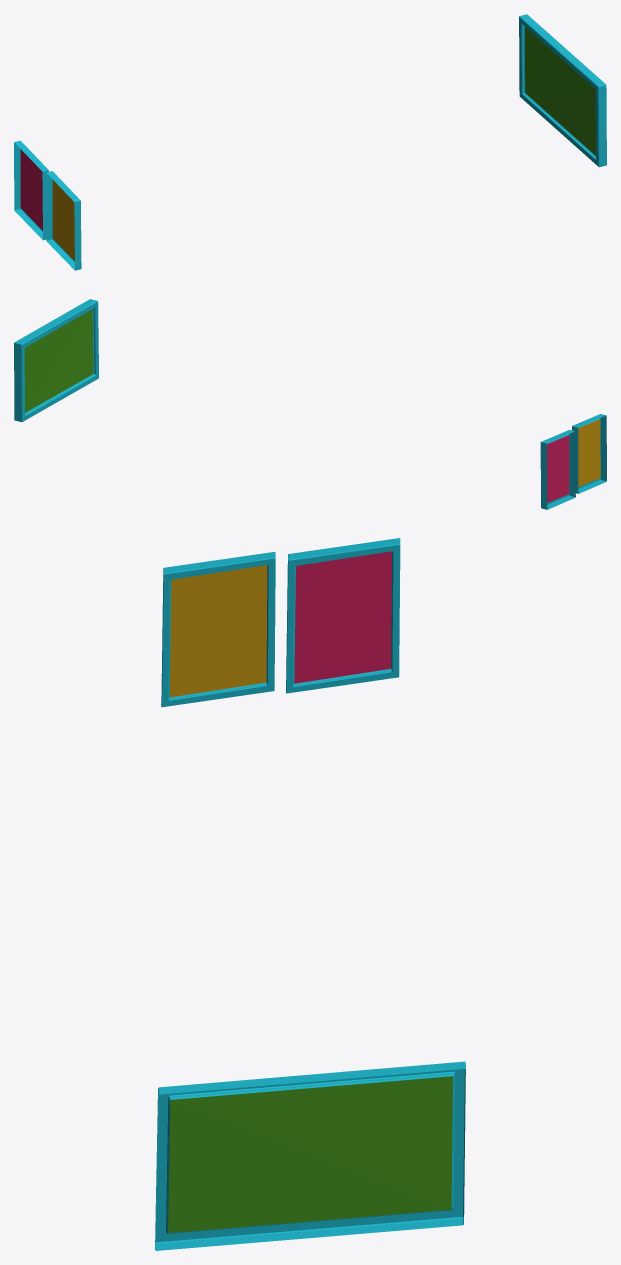
File: pingmu.FBX
3 renders of one model, top to bottom at view 1: azimuth 30°, elevation 25°; view 2: azimuth 150°, elevation 25°; view 3: azimuth 270°, elevation 25°, orthographic. The views are drawn at different scales.
Visible parts, largest first — view 1: pingmu; view 2: pingmu; view 3: pingmu.
Part boxes in pixels (x1=…): pingmu: x1=14, y1=14, x2=606, y2=270; pingmu: x1=14, y1=299, x2=606, y2=509; pingmu: x1=155, y1=538, x2=465, y2=1250.
Size of the model in its own units: 972 by 187 by 253.
